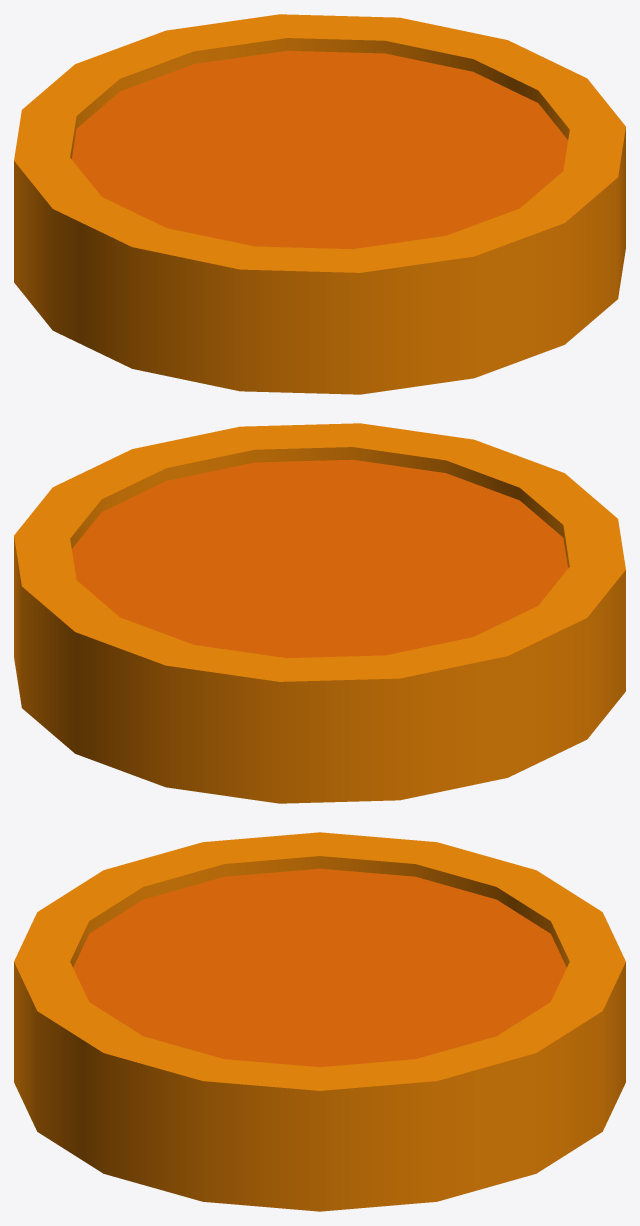
The model's file is Bronze_Coin.fbx.
3 views of the same model, one above another, from view 1: azimuth 30°, elevation 25°; view 2: azimuth 150°, elevation 25°; view 3: azimuth 270°, elevation 25° (orthographic).
Parts seen in each view (by area): view 1: Bronze_Coin; view 2: Bronze_Coin; view 3: Bronze_Coin.
Boxes of the visible parts, x1,y1,x2,y2 form: Bronze_Coin: (14,14,625,394); Bronze_Coin: (14,423,625,803); Bronze_Coin: (14,832,625,1211).
Size of the model in its own units: 2.17 by 0.4716 by 2.17.
1 material, 1 textured.
